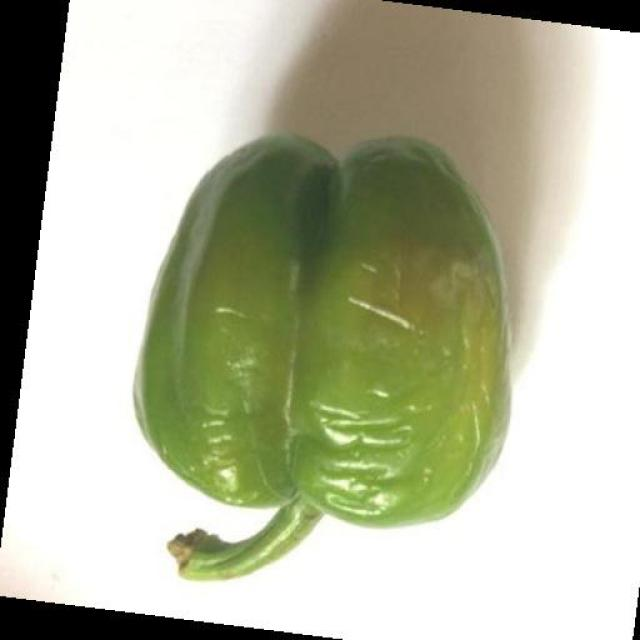Stale_Capsicum: (258, 173, 510, 490)
